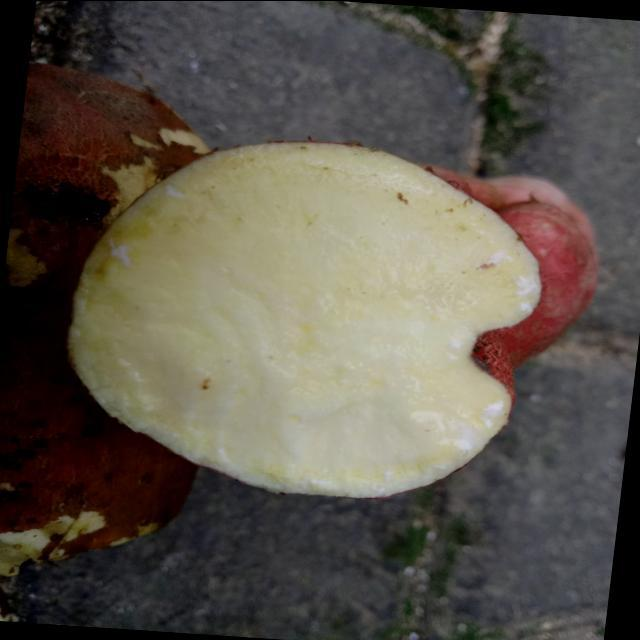Healthy Sweet Potato: (70, 141, 542, 496)
